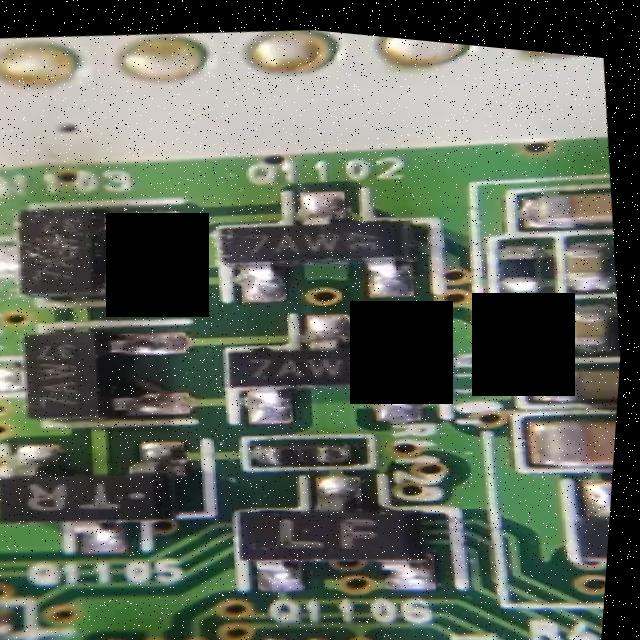4439: (0, 305, 192, 443), (0, 429, 201, 559), (198, 183, 407, 307), (231, 465, 438, 589), (0, 185, 175, 311), (224, 317, 427, 423)
capacitor 1V5: (523, 387, 622, 464), (529, 346, 624, 397), (522, 170, 616, 220), (566, 227, 620, 282), (570, 288, 617, 338)
resistor IR1: (254, 425, 352, 469), (486, 225, 552, 285), (496, 295, 552, 345)
